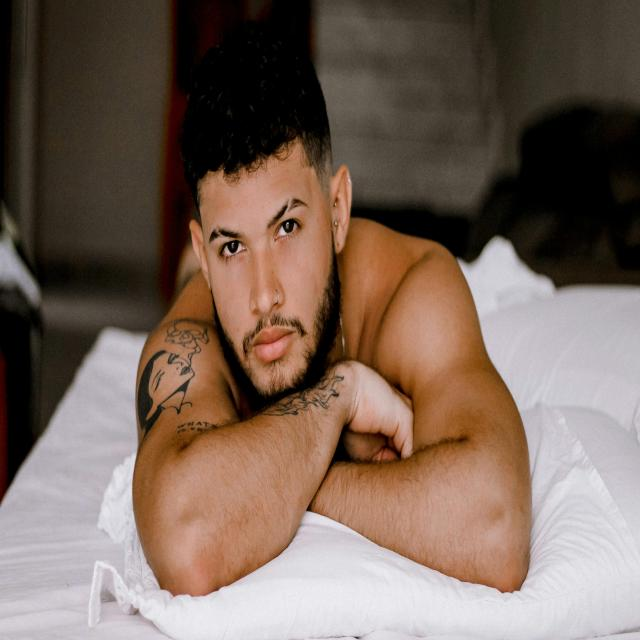lie: (124, 87, 560, 602)
